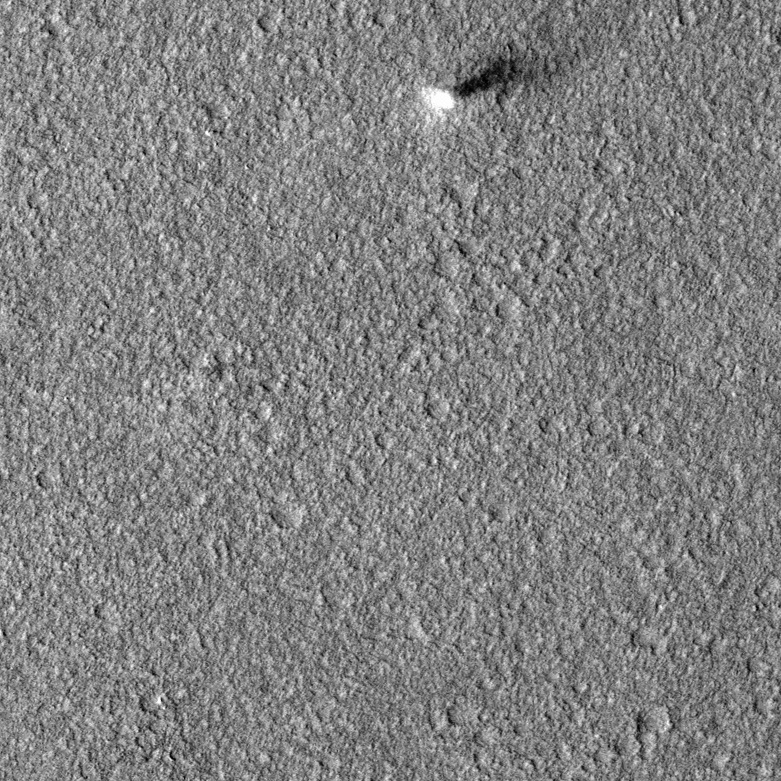dust_devil: (420, 46, 549, 114)
